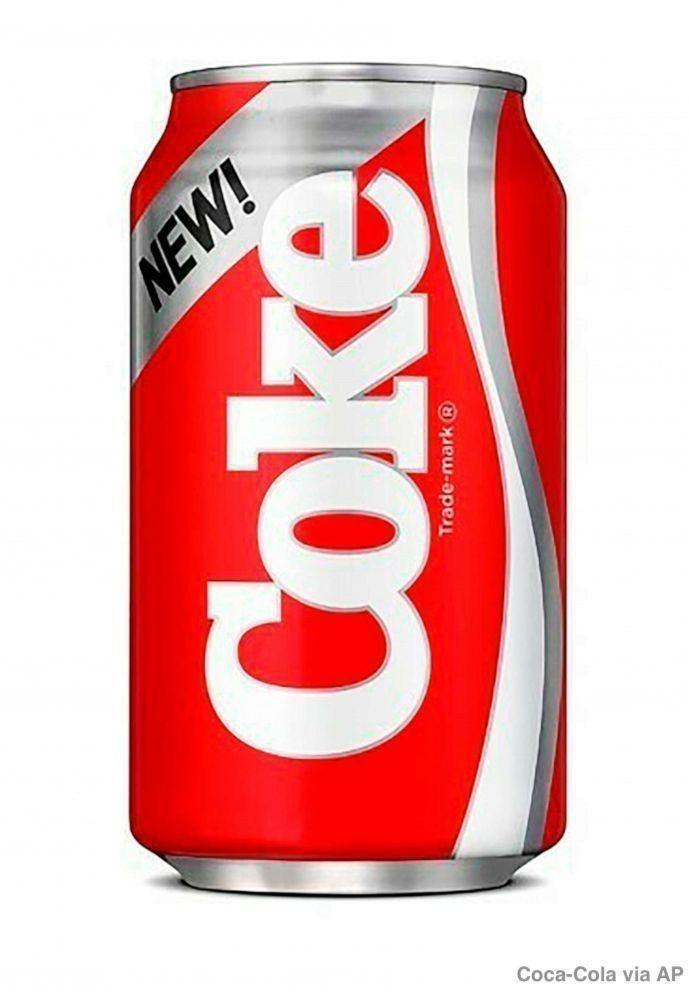tin can: (125, 53, 572, 898)
